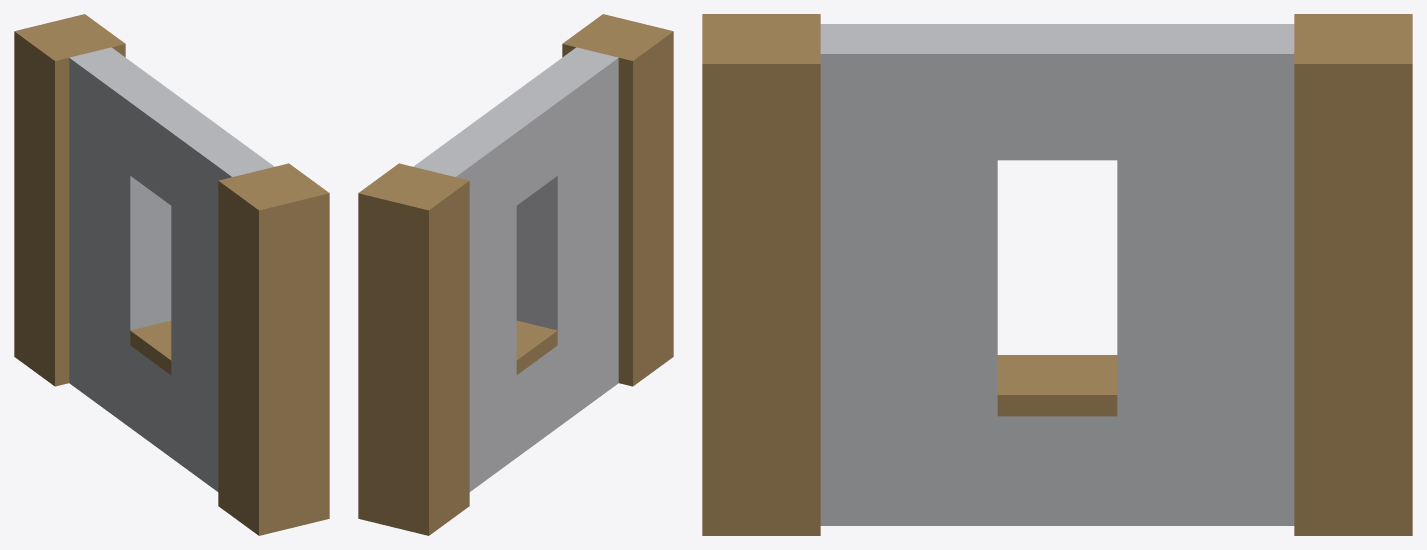
Rendered from Wood_Window_Square_Sill_Inside_01.obj.
3 renders of one model, left to right at view 1: azimuth 30°, elevation 25°; view 2: azimuth 150°, elevation 25°; view 3: azimuth 270°, elevation 25°, orthographic. The views are drawn at different scales.
Parts seen in each view (by area): view 1: Mesh1_Wood_Window_Square_Sill_Model; view 2: Mesh1_Wood_Window_Square_Sill_Model; view 3: Mesh1_Wood_Window_Square_Sill_Model.
Part boxes in pixels (box(x1,y1,x2,y2)): Mesh1_Wood_Window_Square_Sill_Model: box(14, 14, 329, 535); Mesh1_Wood_Window_Square_Sill_Model: box(358, 14, 673, 535); Mesh1_Wood_Window_Square_Sill_Model: box(702, 14, 1412, 535).
Bounding box in the file's own units: 0.5 × 2.2 × 3.
